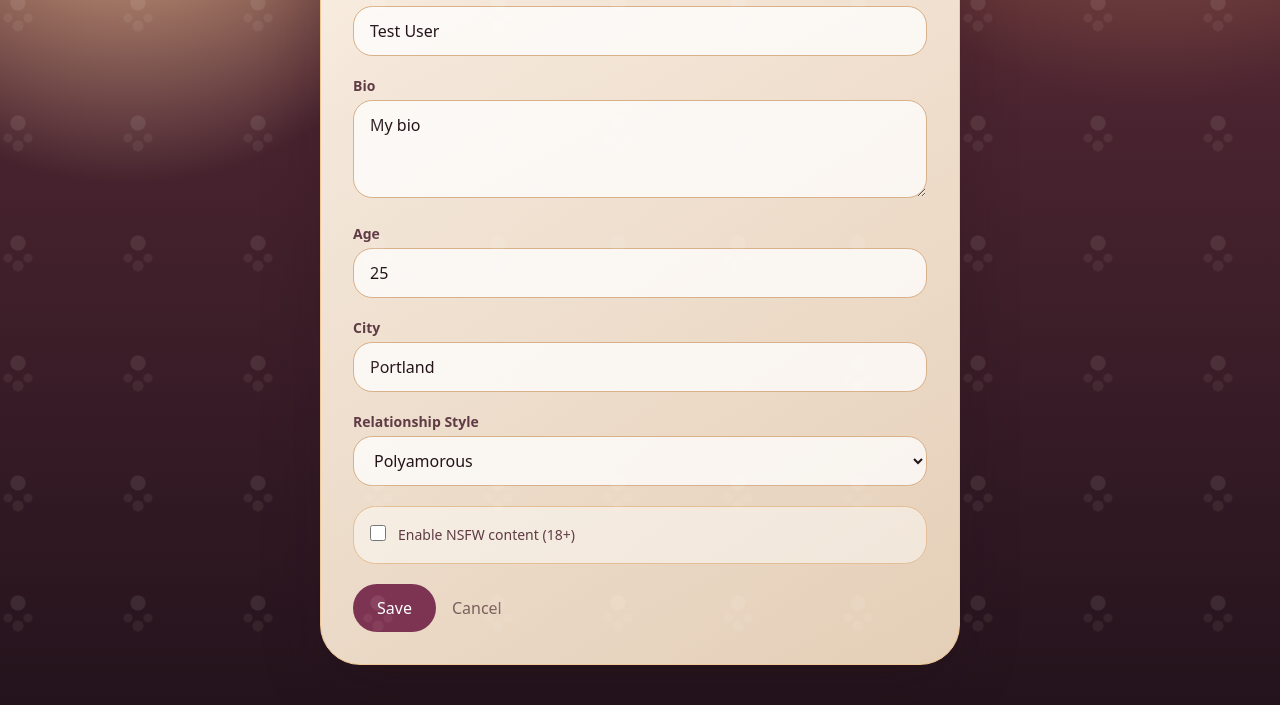
Test: ProfileEditPage › disables Save button while submitting
(page scrolled)
Click the button "Save" at coordinates (394, 608), box [353,584,436,632]
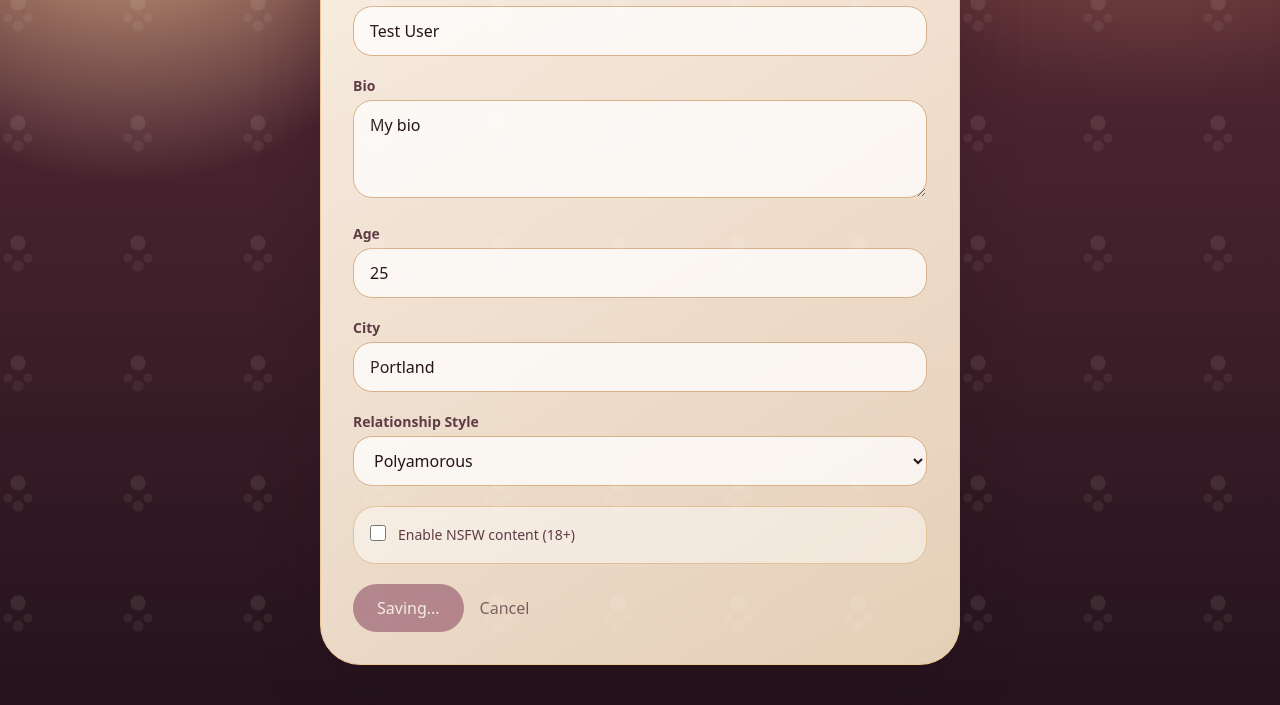
Expected: the button "Saving..." is disabled, [353,584,464,632]
